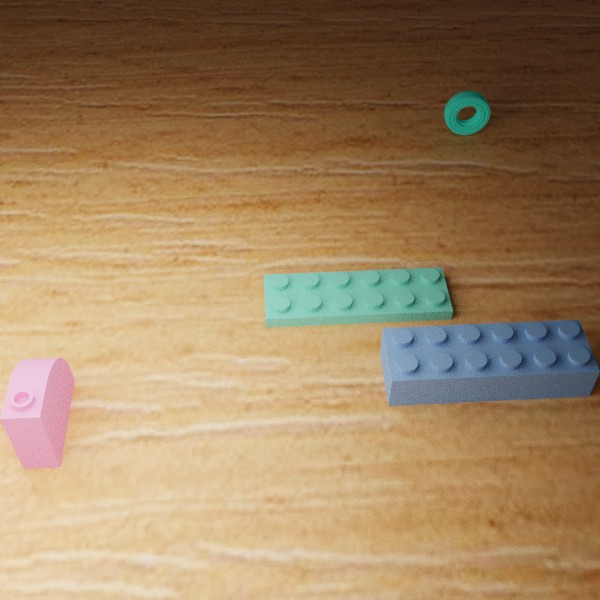lego: (379, 319, 600, 406), (263, 267, 453, 327), (0, 357, 74, 469), (444, 90, 490, 134)
